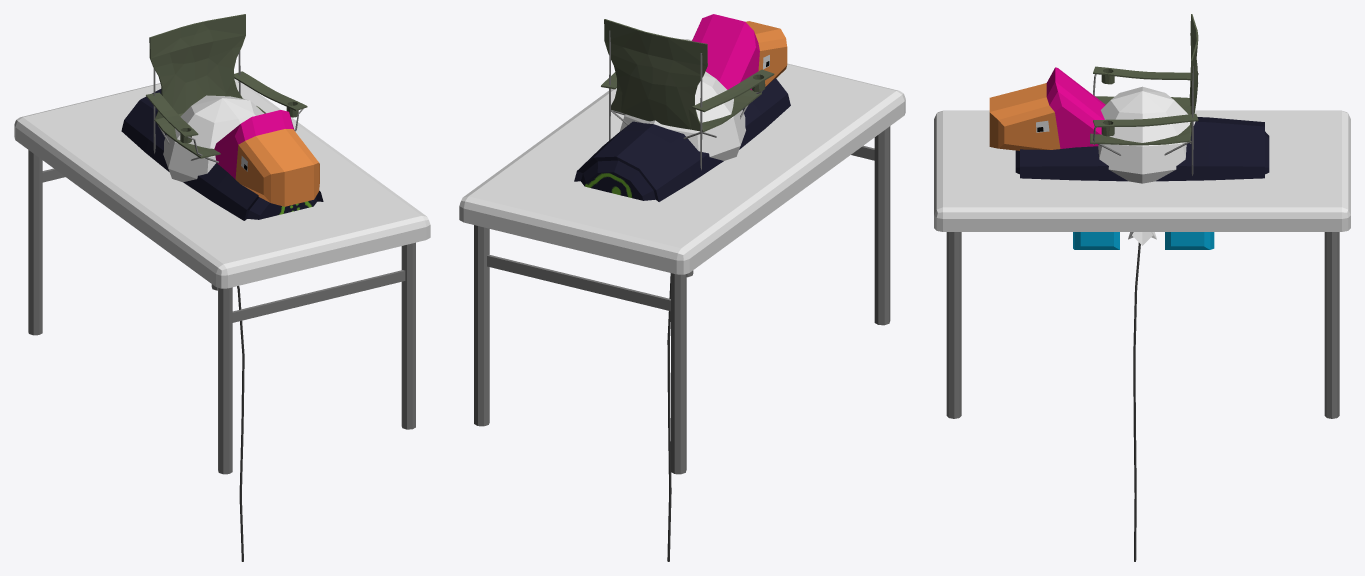
File: party Assets.fbx
3 views of the same model, side by side, from view 1: azimuth 30°, elevation 25°; view 2: azimuth 150°, elevation 25°; view 3: azimuth 270°, elevation 25° (orthographic). The views are drawn at different scales.
Visible parts, largest first — view 1: Table, Chair, Pinata, Baloon, GDS Speaker; view 2: Table, Chair, GDS Speaker, Pinata, Baloon; view 3: Table, Pinata, GDS Speaker, Baloon, Chair.
Part boxes in pixels (box(x1,y1,x2,y2)): Table: box(14, 78, 430, 474); Chair: box(146, 14, 307, 162); Pinata: box(214, 110, 319, 206); Baloon: box(163, 95, 264, 561); GDS Speaker: box(121, 89, 323, 220); Table: box(459, 39, 905, 474); Chair: box(601, 19, 774, 170); GDS Speaker: box(574, 78, 790, 201); Pinata: box(692, 14, 787, 90); Baloon: box(619, 71, 745, 561); Table: box(934, 110, 1350, 418); Pinata: box(989, 67, 1214, 249); GDS Speaker: box(1015, 117, 1269, 181); Baloon: box(1098, 86, 1195, 561); Chair: box(1090, 14, 1198, 175).
Bounding box in the file's own units: 511 × 1186 × 867.
